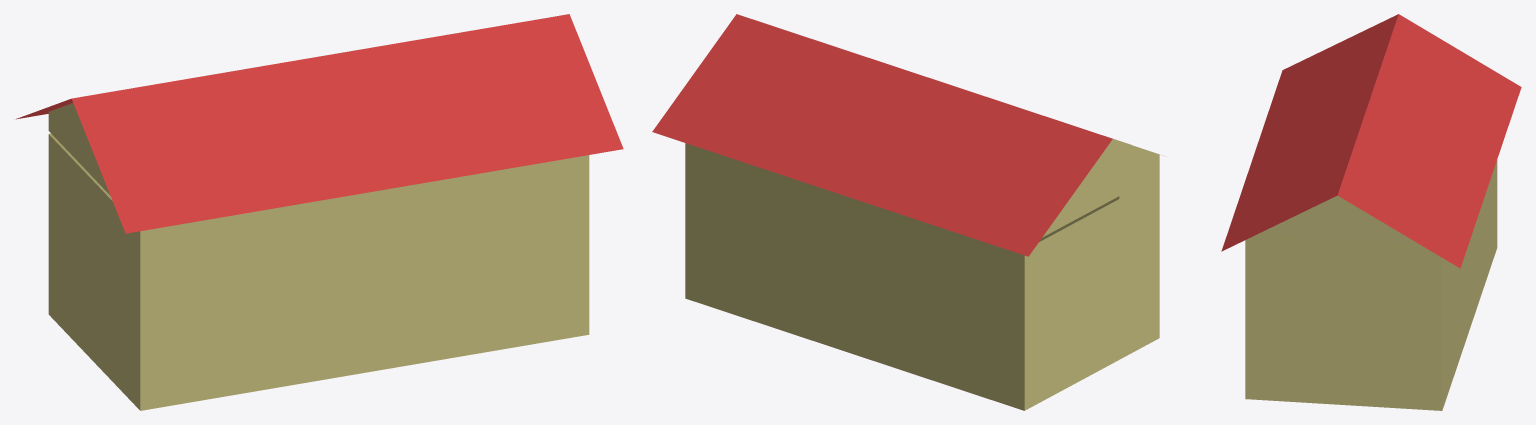
3 renders of one model, left to right at view 1: azimuth 30°, elevation 25°; view 2: azimuth 150°, elevation 25°; view 3: azimuth 270°, elevation 25°, orthographic. The views are drawn at different scales.
Size of the model in its own units: 16.26 by 10.53 by 8.45.
